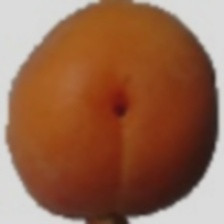apricot: (42, 41, 214, 177)
